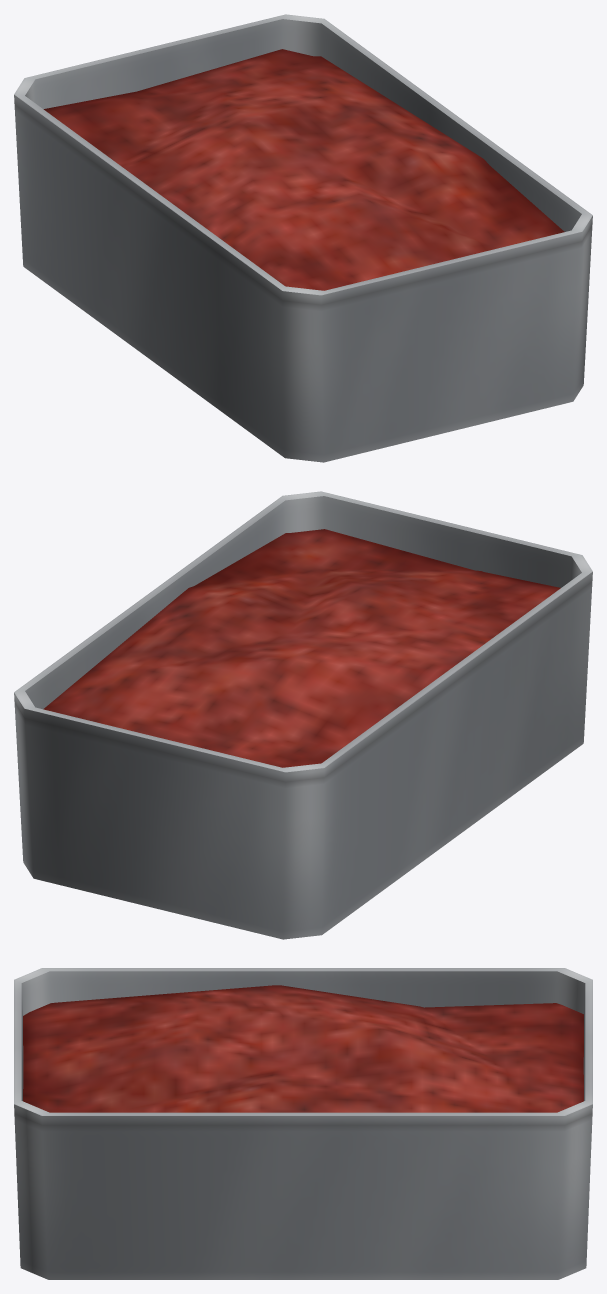
Rendered from jsf_Ingredient_RedGinger_03.fbx.
The picture shows the model from 3 angles, top to bottom: view 1: azimuth 30°, elevation 25°; view 2: azimuth 150°, elevation 25°; view 3: azimuth 270°, elevation 25°; orthographic projection. The views are drawn at different scales.
Visible parts, largest first — view 1: jsf_Ingredient_RedGinger_03; view 2: jsf_Ingredient_RedGinger_03; view 3: jsf_Ingredient_RedGinger_03.
Boxes of the visible parts, x1,y1,x2,y2 form: jsf_Ingredient_RedGinger_03: [14, 14, 592, 462]; jsf_Ingredient_RedGinger_03: [14, 491, 592, 939]; jsf_Ingredient_RedGinger_03: [14, 968, 592, 1279].
Bounding box in the file's own units: 15.76 × 8.52 × 26.1.
